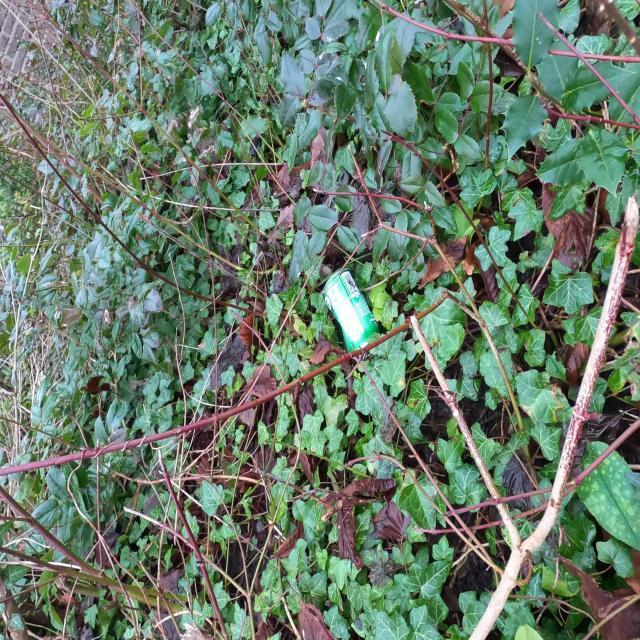Can-Metal: (317, 265, 386, 361)
